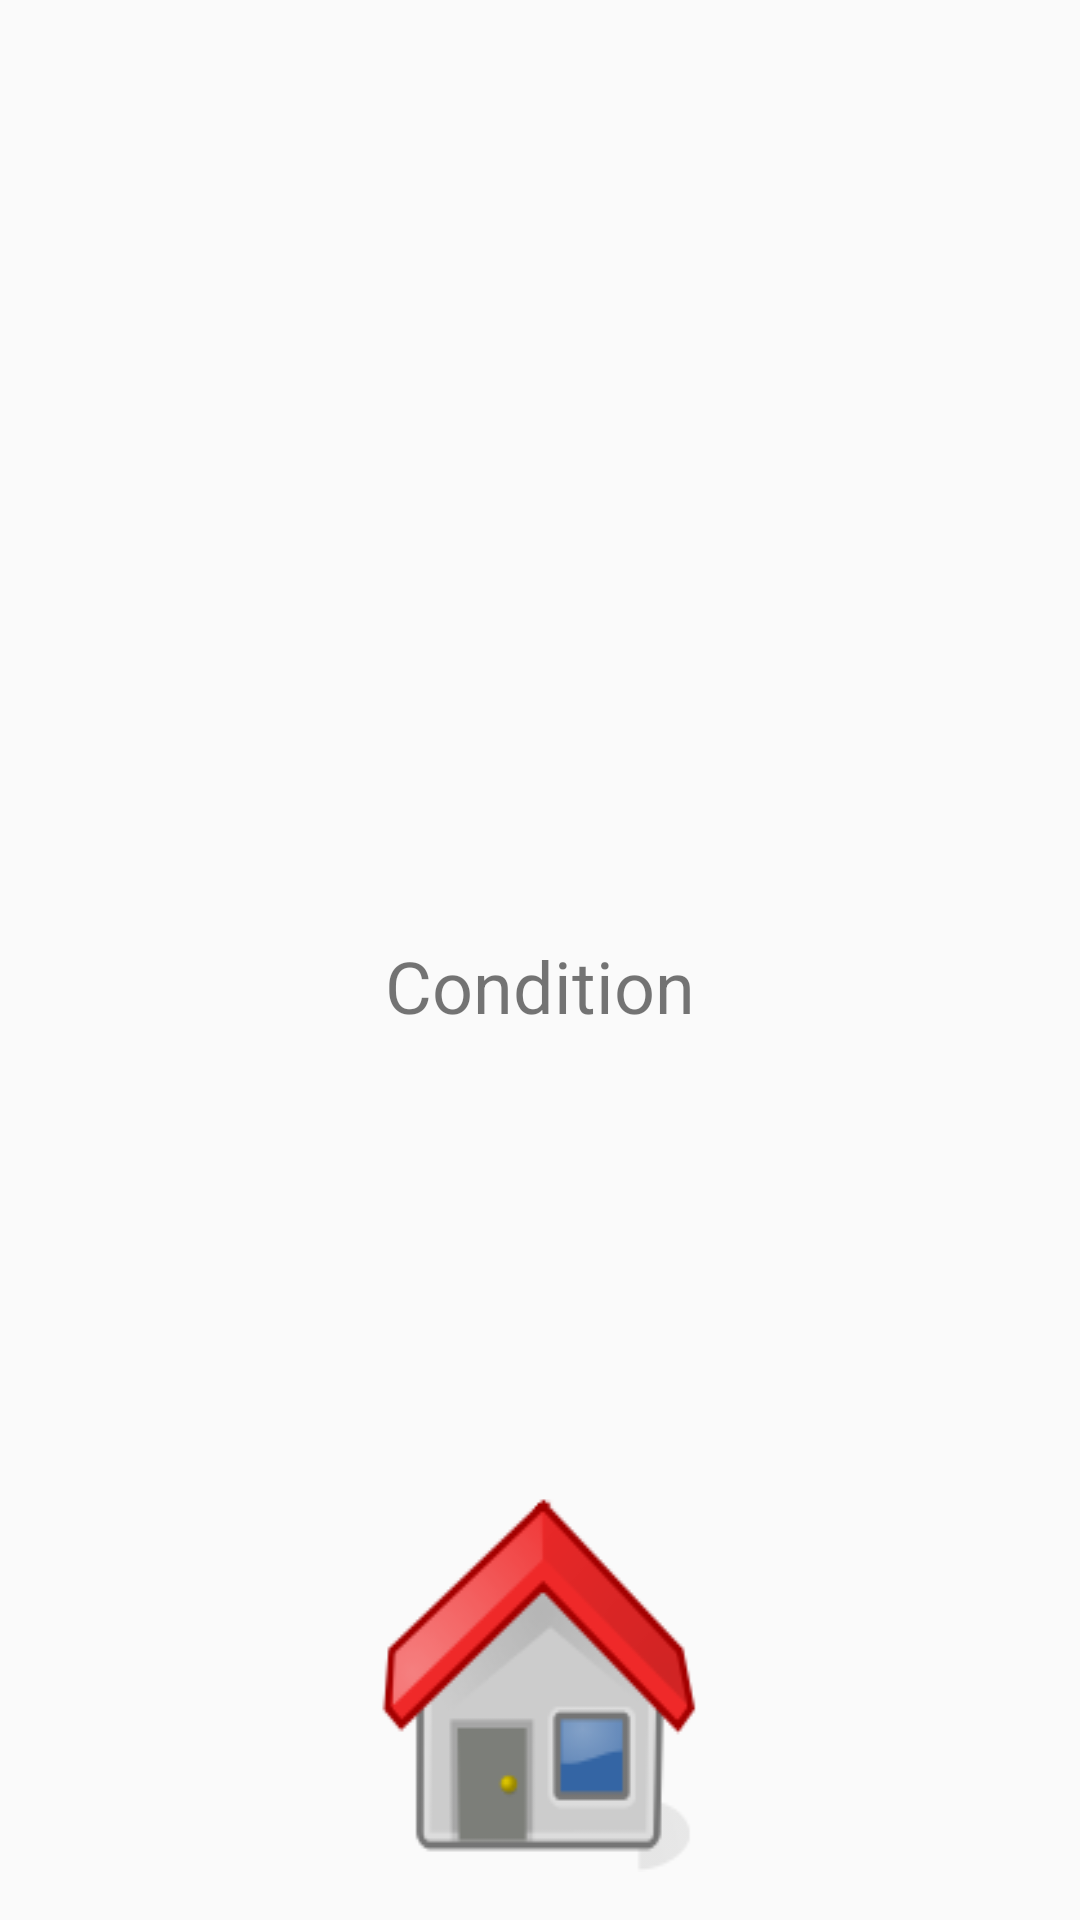

Named icons in this screenshot (1080 x 1920) and their centers, (x=x, y=y):
home: (x=539, y=1675)
